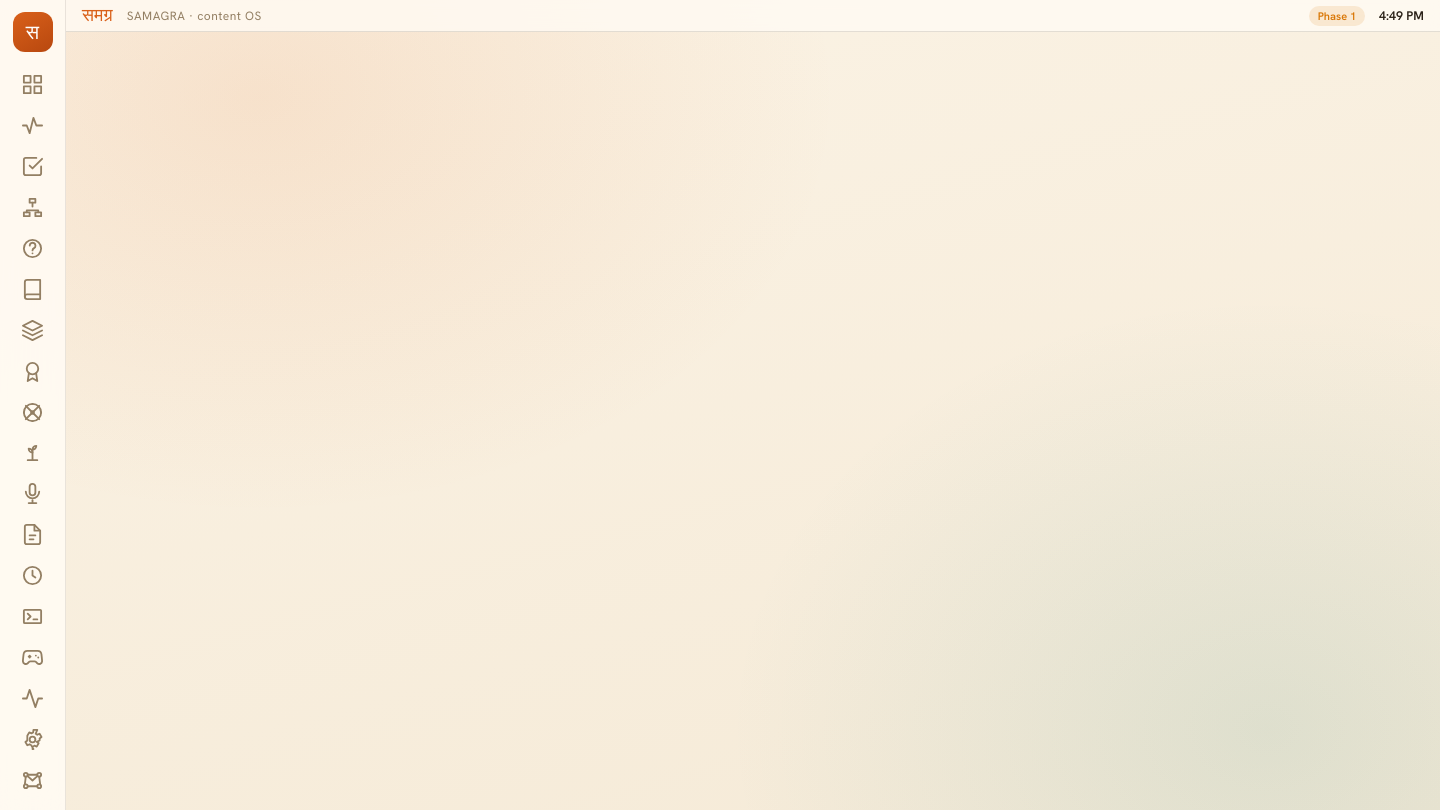
Test: App (right-click context menus — all themes) › opens the desktop menu in the samagra theme too
The width and height of the screenshot is (1440, 810).
Right-click the element with id "samagra-os-shell" at point(720, 405), box x1=0 y1=0 x2=1439 y2=809
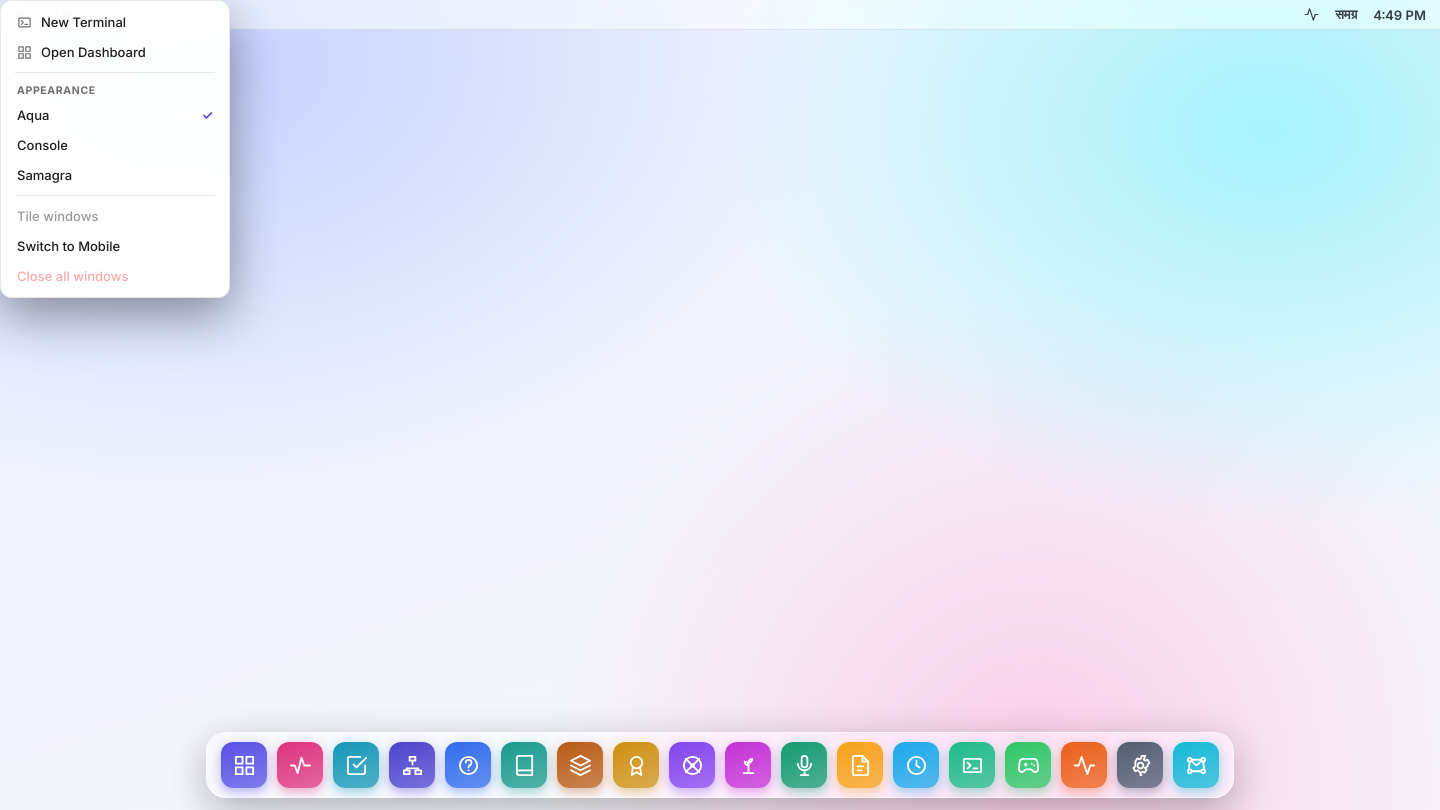
Expected: the text "New Terminal" is shown, x1=41 y1=14 x2=126 y2=30
Expected: the text "Appearance" is shown, x1=17 y1=84 x2=96 y2=97
